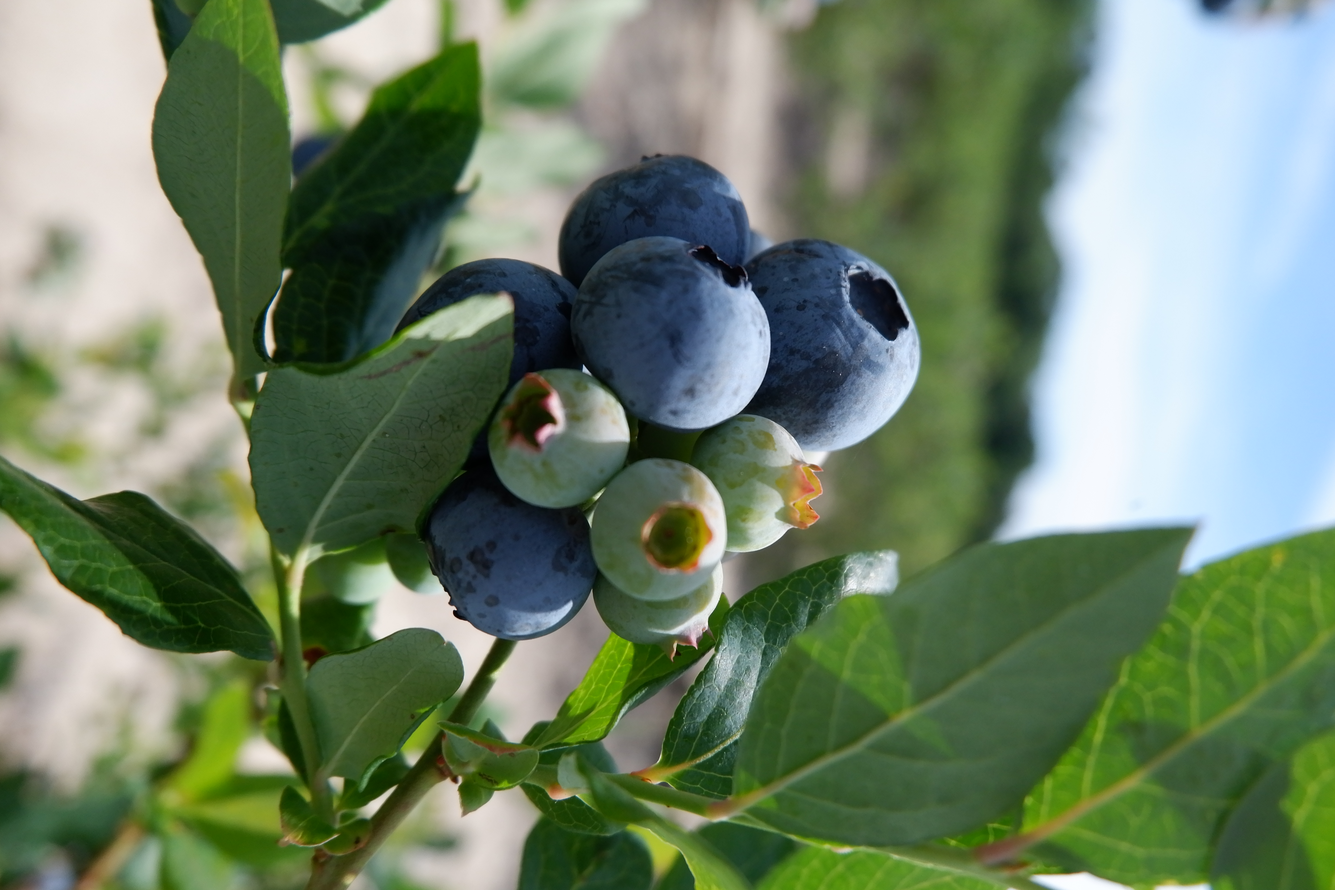Immature: (592, 462, 724, 600), (491, 372, 627, 504), (694, 419, 818, 552), (597, 566, 721, 647)
Mature: (392, 258, 583, 471), (575, 235, 771, 429), (744, 243, 917, 451), (428, 469, 592, 637), (561, 158, 748, 277)
